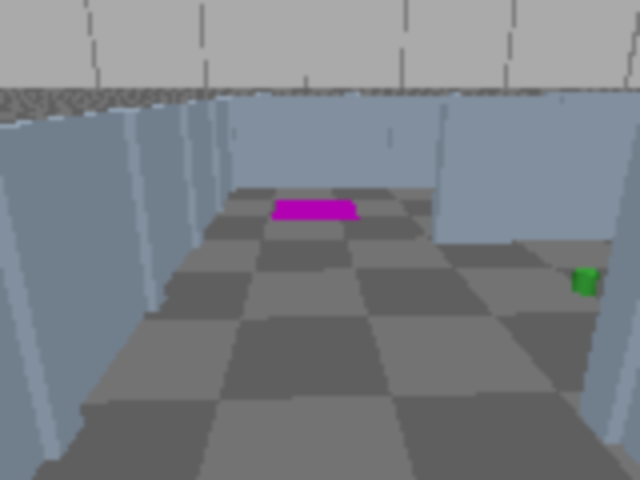goal_zone: (272, 199, 360, 221)
puck: (574, 266, 596, 296)
